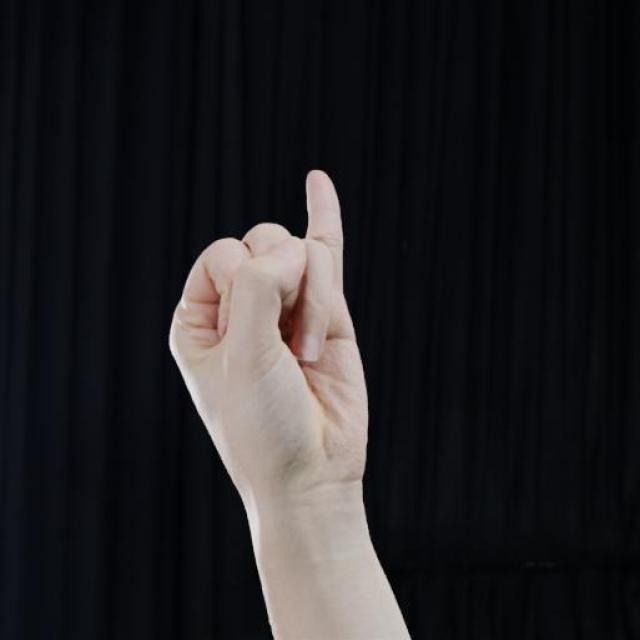I: (164, 164, 375, 480)
